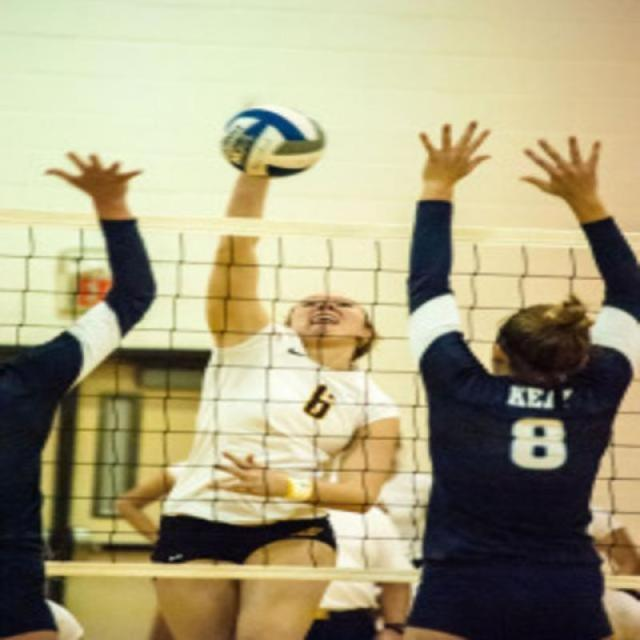volleyball: (215, 102, 323, 177)
